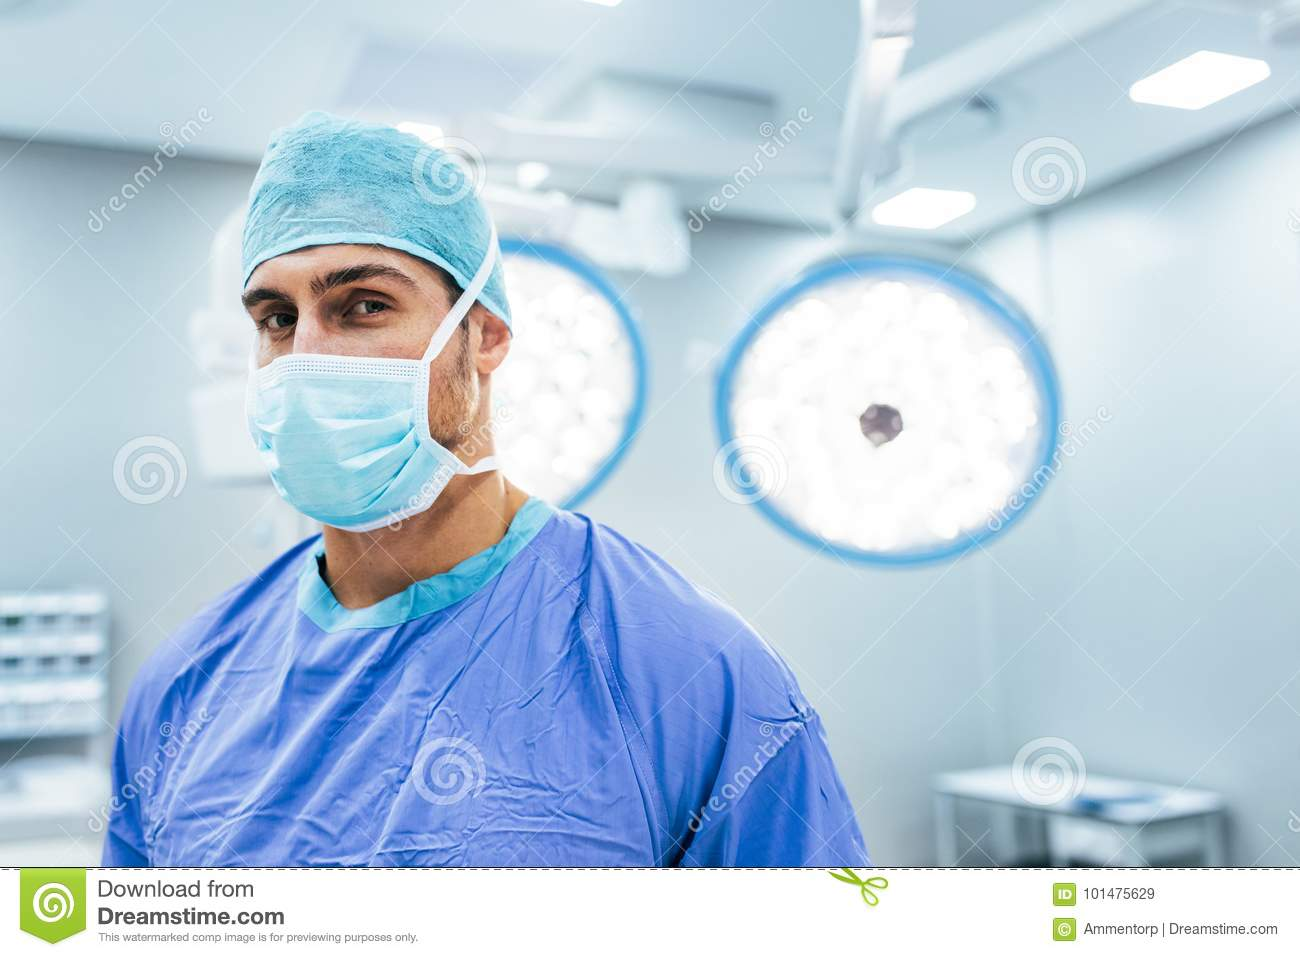mask: (232, 369, 457, 529)
